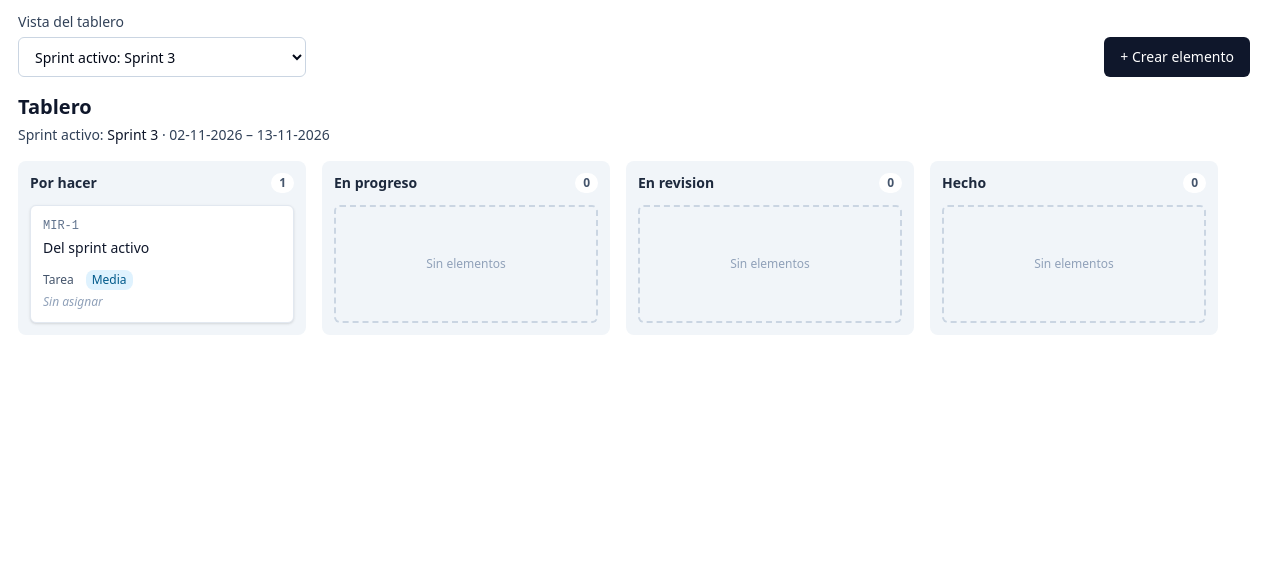
ProjectBoardPage con sprints (MIR-47) › "Todos los elementos" vuelve a la vista sin filtro
Expected: the link "Del sprint activo" is shown, [43, 238, 149, 257]
Select "Todos los elementos" in the dropdown labelled "Vista del tablero" at {"x": 162, "y": 57}, box [18, 37, 306, 77]
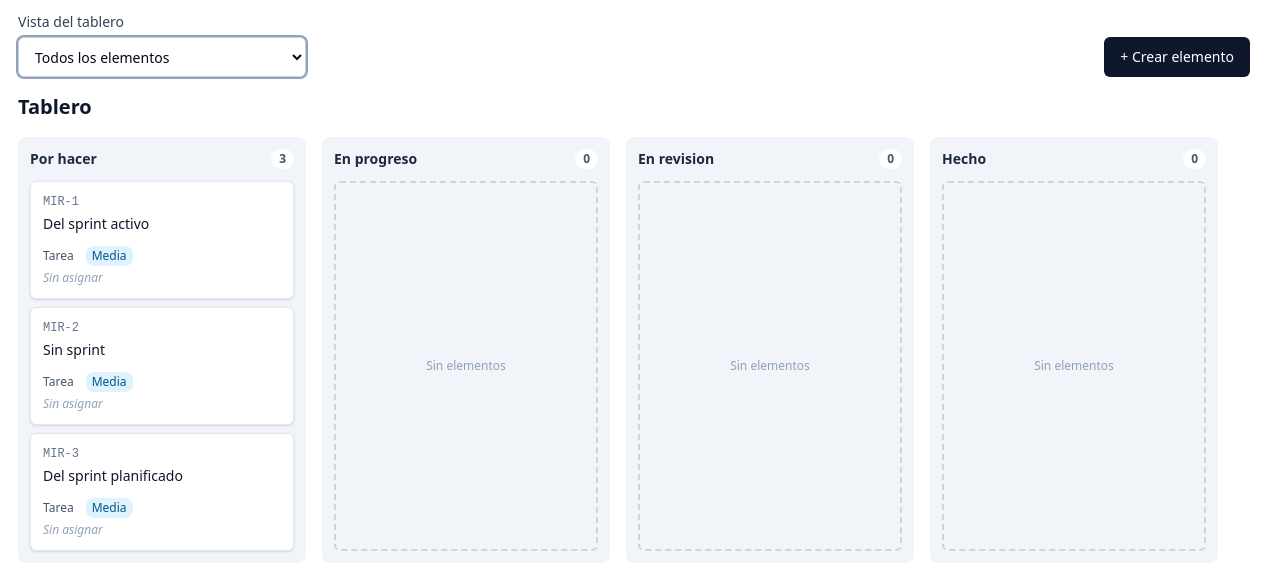
Expected: the link "Sin sprint" is shown, [43, 340, 105, 359]
Expected: the link "Del sprint planificado" is shown, [43, 466, 183, 485]
Expected: the text "Sprint activo:" is gone
